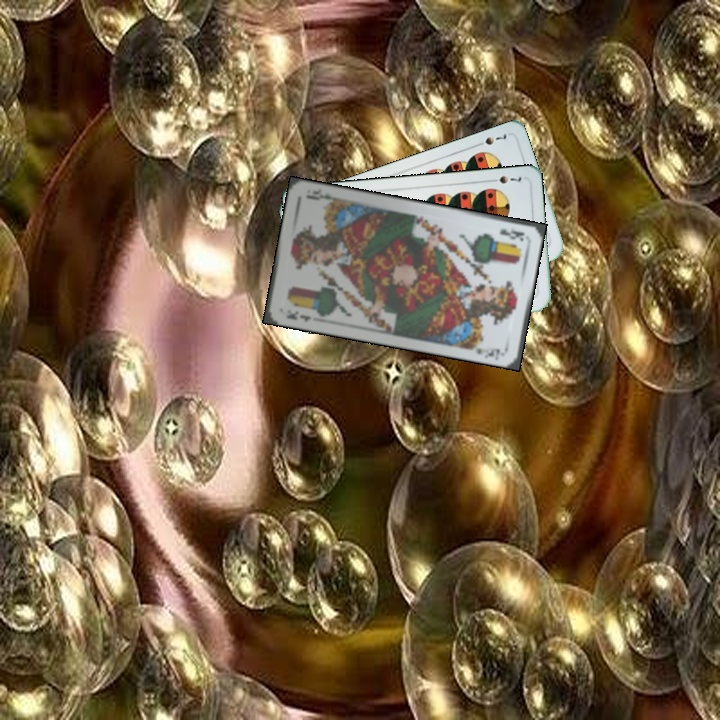EK: (496, 225, 527, 243), (282, 307, 313, 325)
S7: (471, 129, 509, 149), (485, 172, 524, 186)
